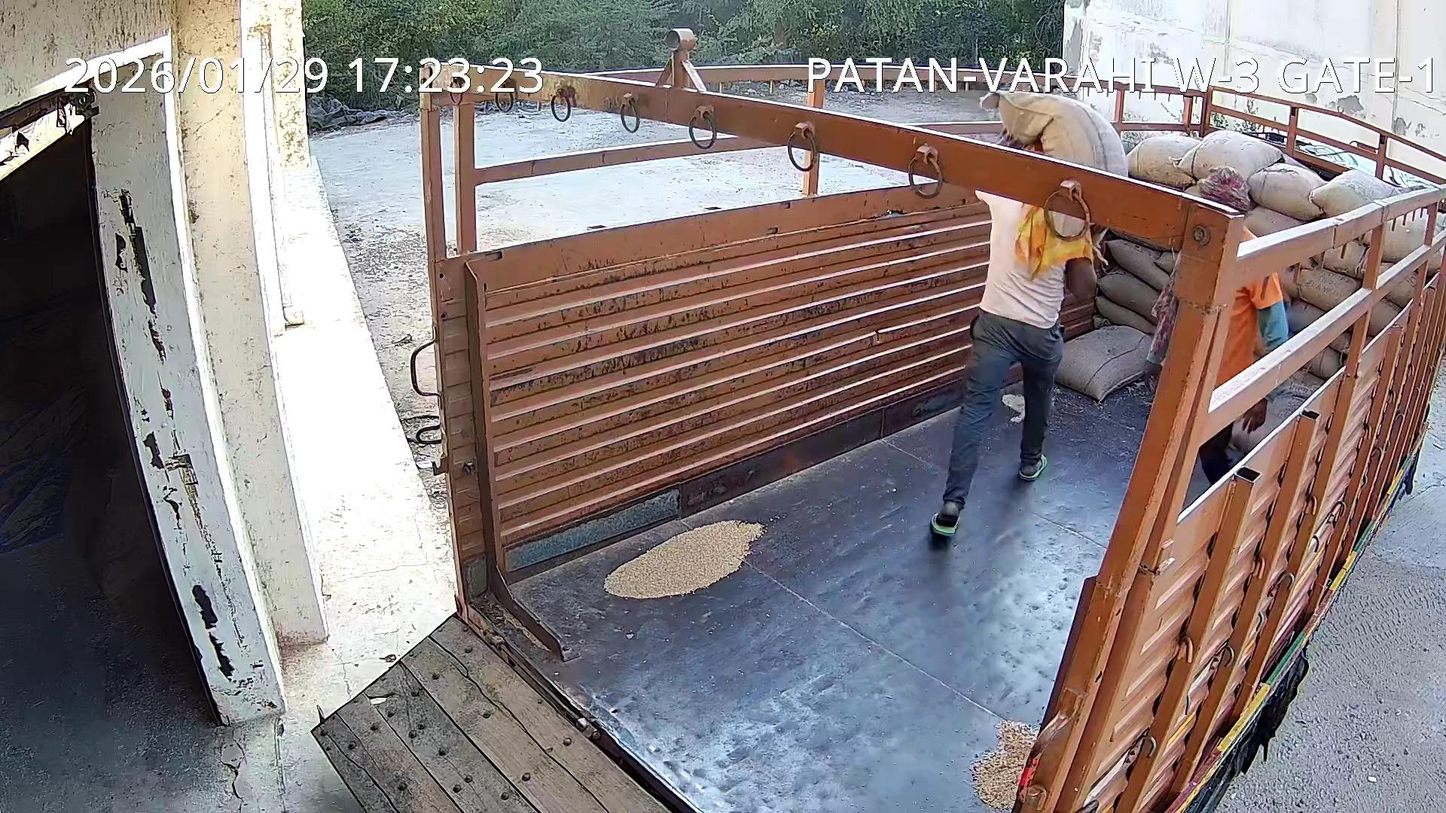Sack: (981, 91, 1127, 175)
